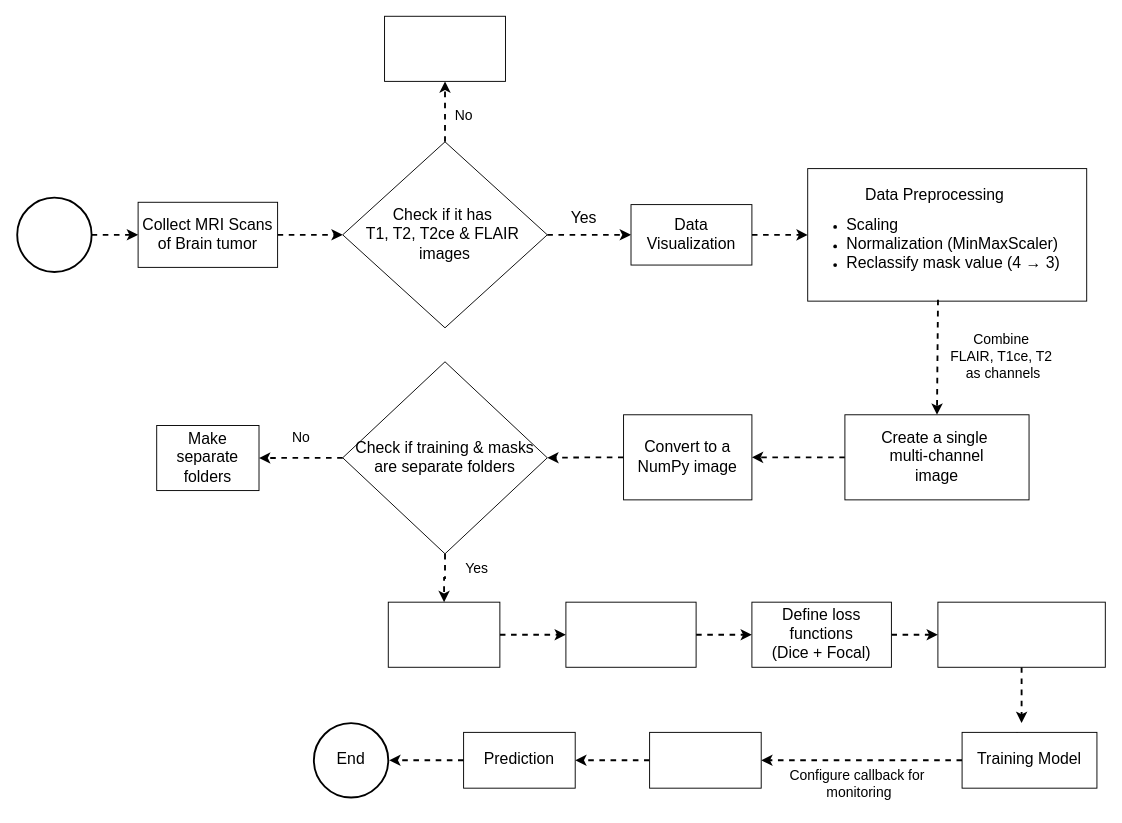
Image size: 1122x823. Some labels were removed from this diagram. The centre of each missing label's shape, as x and y in pixels:
"Build a 3D U-Net Model" belongs at (630,634).
"Create data generator" belongs at (1021,634).
"Download correct dataset" belongs at (444,48).
"Split data in 80 : 20 ratio" belongs at (443,634).
"Start" belongs at (54,234).
"Validation (IoU metrics)" belongs at (705,759).
